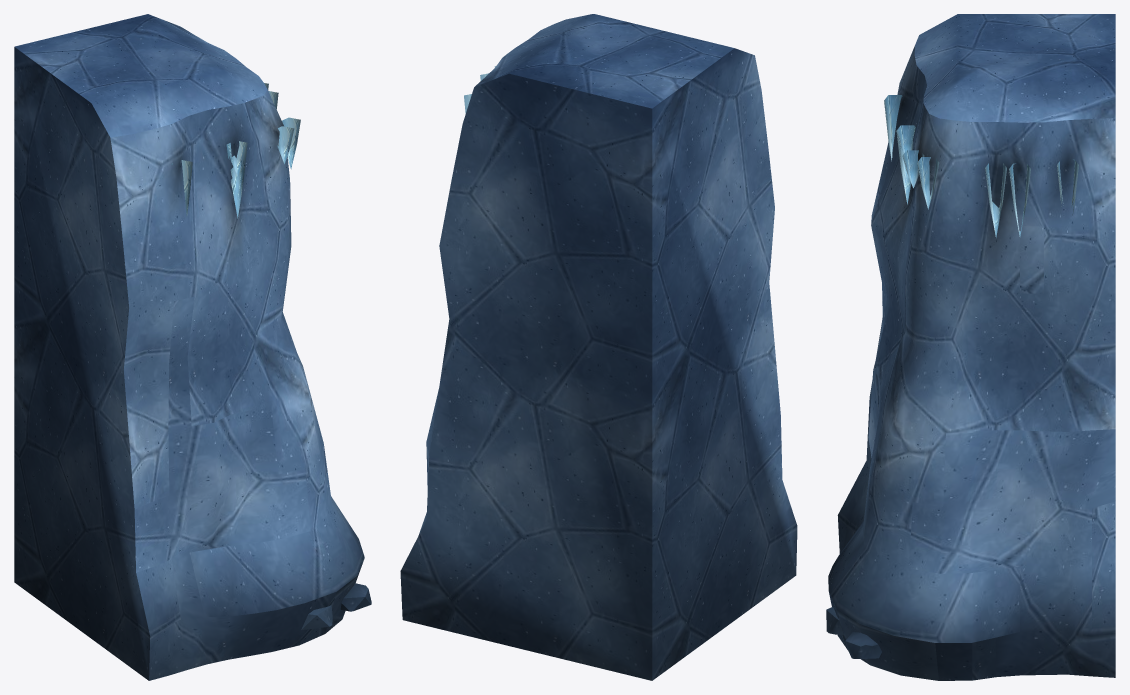
The model's file is cave_wall_ice_corner.glb.
The picture shows the model from 3 angles, left to right: view 1: azimuth 30°, elevation 25°; view 2: azimuth 150°, elevation 25°; view 3: azimuth 270°, elevation 25°; orthographic projection. The views are drawn at different scales.
Visible parts, largest first — view 1: cave_wall_ice_corner; view 2: cave_wall_ice_corner; view 3: cave_wall_ice_corner.
Boxes of the visible parts, x1,y1,x2,y2 form: cave_wall_ice_corner: [14, 14, 371, 680]; cave_wall_ice_corner: [400, 14, 797, 680]; cave_wall_ice_corner: [826, 14, 1115, 680].
Size of the model in its own units: 1.3 by 2.63 by 1.25.
2 materials, 2 textured.
